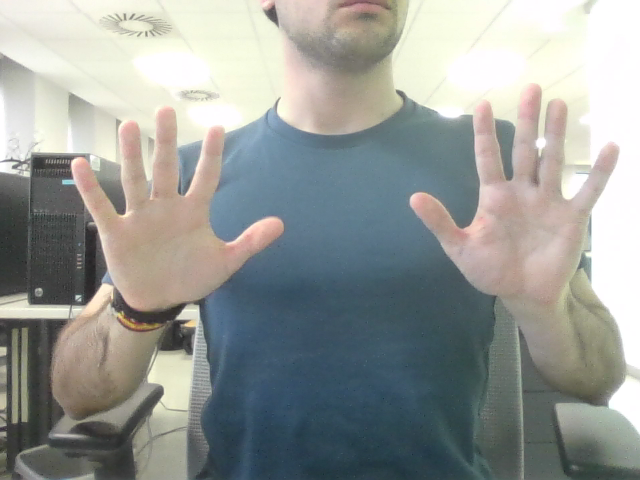Manos Arriba: (107, 104, 584, 275)
